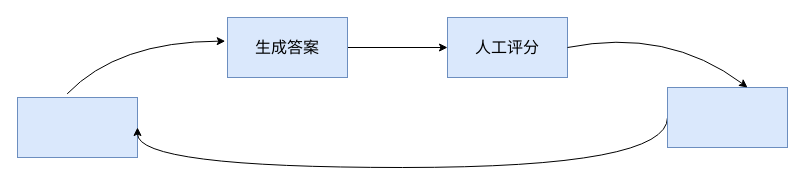
The diagram is 805 pixels wide and 185 high, and some of its shapes have lost their labels. Here are the shapes that lost their labels. From the top down, the centre of each, then its label:
(77,127): 初始模型
(727,117): 调整模型
